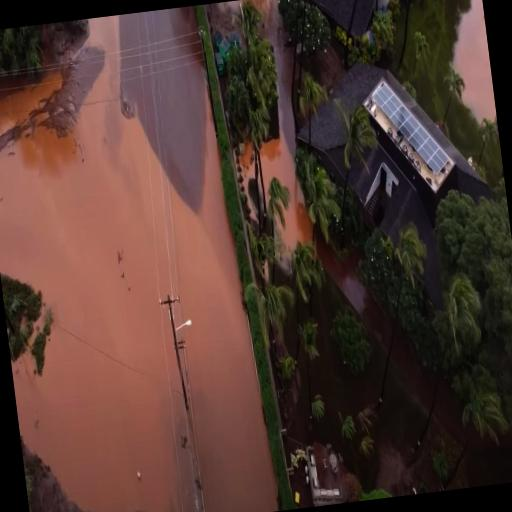flood: (0, 15, 277, 512), (254, 0, 311, 247), (454, 0, 496, 120), (239, 143, 259, 221), (208, 0, 239, 25)
house: (286, 42, 506, 340), (287, 0, 437, 53)
